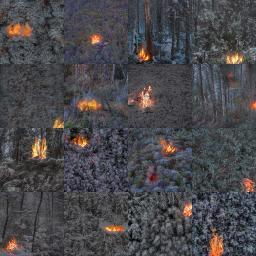Small fire: (119, 78, 158, 116), (74, 86, 105, 126), (0, 14, 40, 44), (155, 130, 188, 160), (62, 128, 96, 156), (95, 217, 134, 241), (28, 131, 54, 165), (200, 231, 236, 255), (85, 25, 112, 53), (176, 193, 198, 226), (124, 44, 159, 64), (222, 45, 248, 70), (0, 230, 22, 255), (239, 169, 256, 198), (47, 114, 71, 132)
